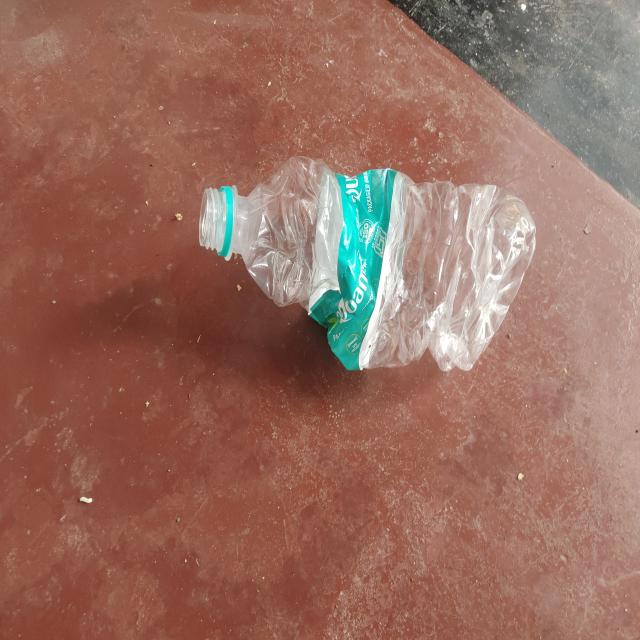plastic: (199, 147, 540, 381)
